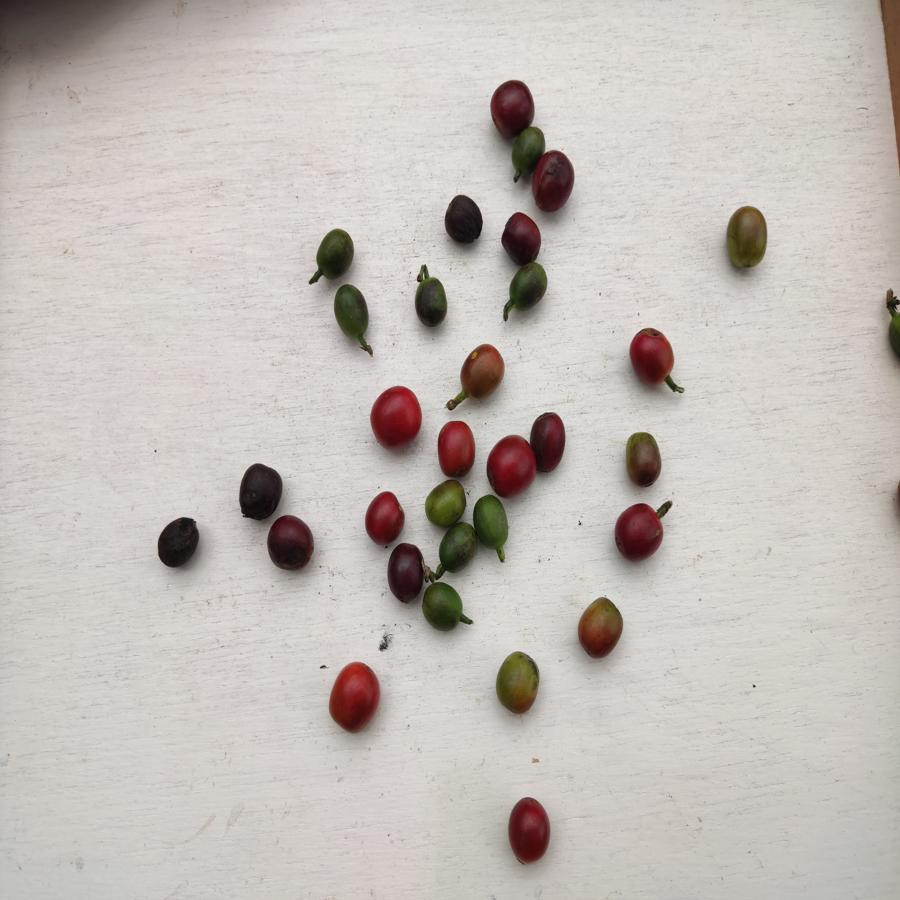Inmaduro: (314, 227, 356, 284), (472, 494, 510, 556), (412, 277, 454, 332), (420, 583, 464, 633), (434, 524, 477, 574), (334, 284, 373, 339), (506, 263, 550, 310), (511, 126, 545, 176)
Maduro: (327, 661, 384, 733), (369, 383, 424, 451), (504, 795, 553, 870), (626, 323, 676, 387), (484, 434, 532, 498), (435, 419, 477, 479), (360, 493, 409, 540)
Pinton: (721, 203, 772, 273), (575, 597, 626, 660), (495, 649, 541, 717), (459, 343, 506, 401), (624, 430, 664, 487), (423, 480, 469, 525)
Sobremaduro: (608, 500, 668, 561), (263, 514, 317, 574), (535, 150, 575, 213), (443, 194, 488, 250), (488, 79, 540, 126), (239, 463, 282, 518), (502, 210, 543, 263), (387, 543, 423, 603), (158, 517, 200, 568), (531, 412, 566, 472)
